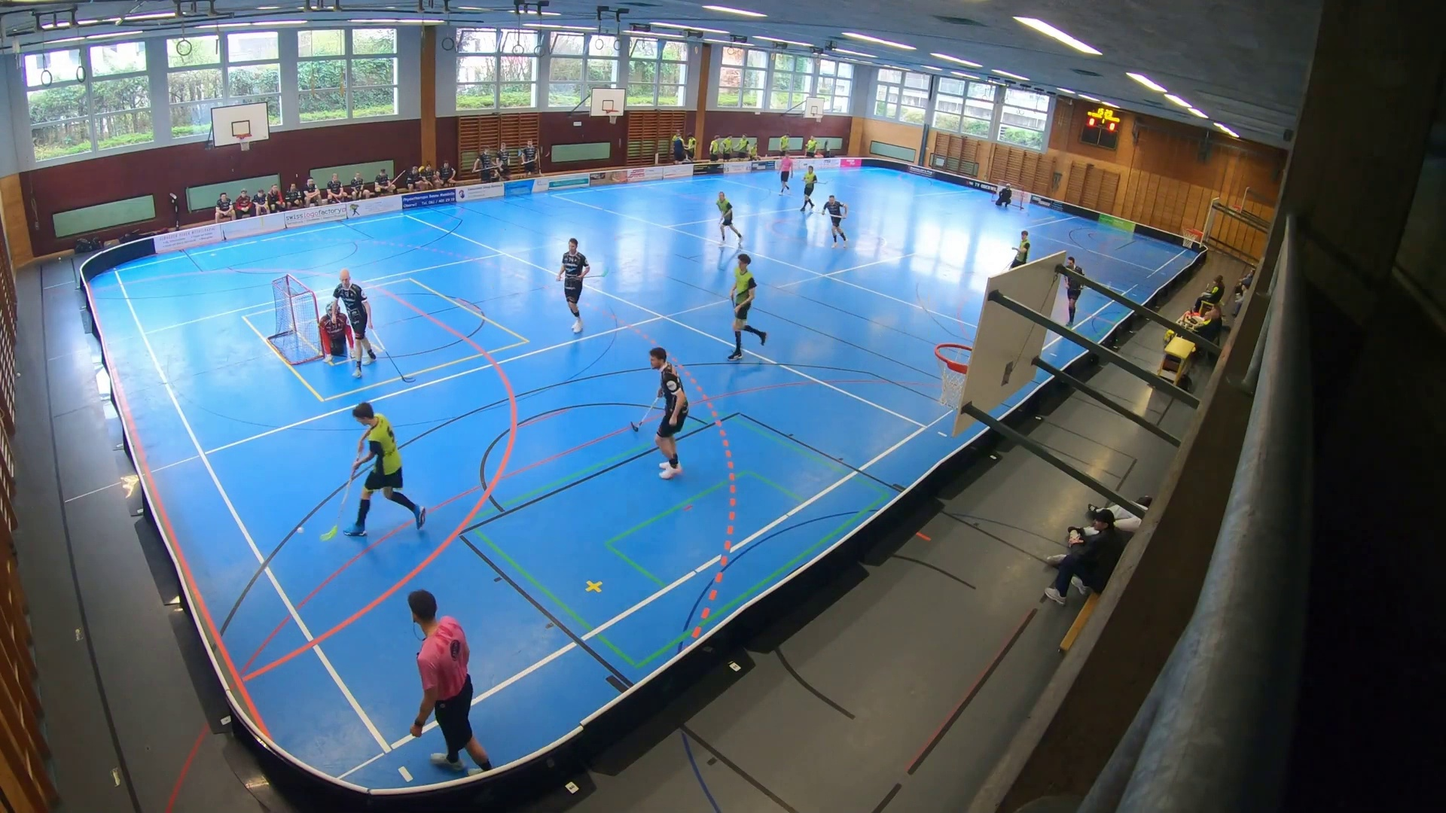Schiri: (361, 579, 499, 776), (776, 151, 793, 199)
ball: (290, 523, 308, 537)
goalkeeper: (316, 300, 355, 370), (992, 180, 1016, 210)
player: (310, 395, 437, 558), (626, 334, 710, 494), (323, 263, 422, 391), (542, 225, 600, 343), (723, 253, 771, 365), (708, 190, 748, 248), (811, 195, 854, 248), (1056, 257, 1082, 332), (997, 229, 1031, 272), (798, 163, 819, 214)
